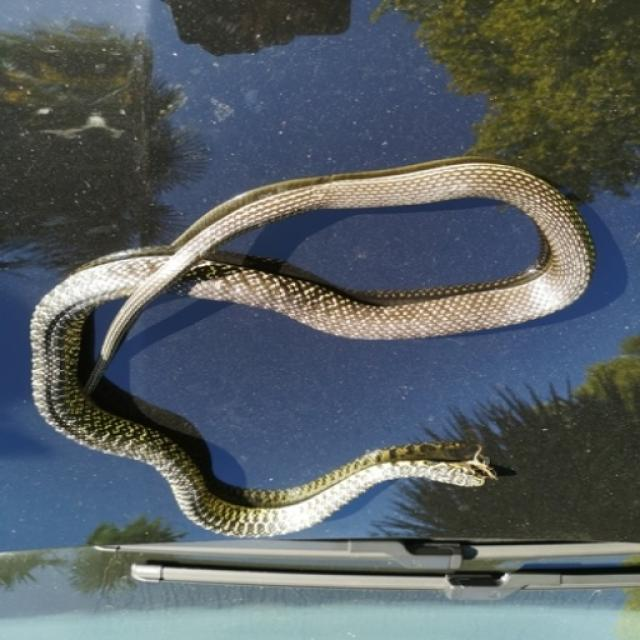snake: (21, 137, 608, 552)
